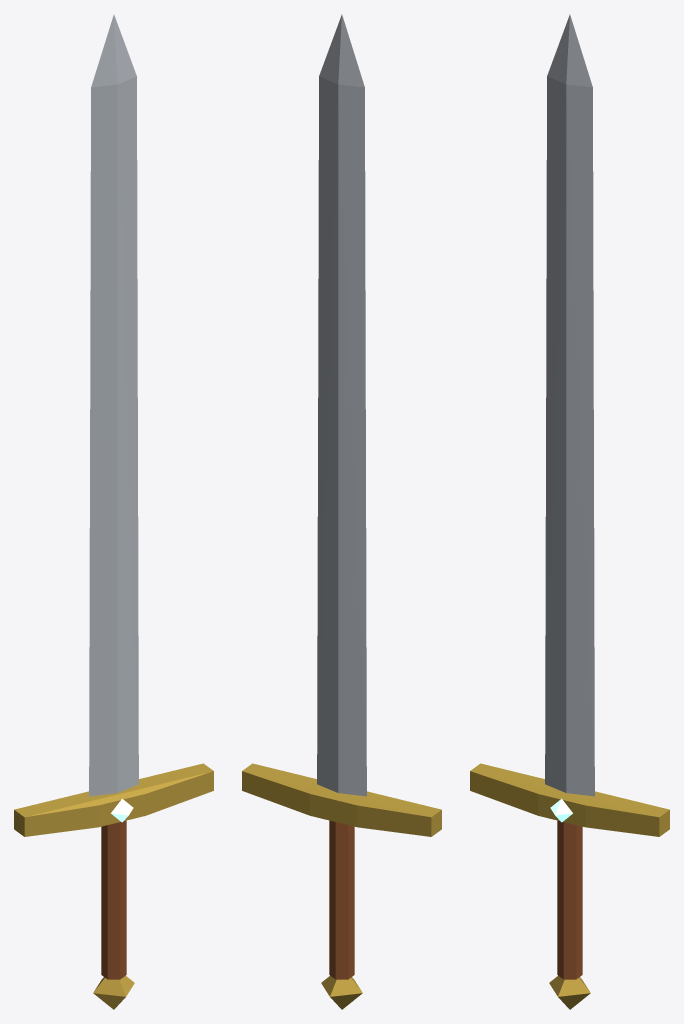
Rendered from hero_sword.gltf.
The picture shows the model from 3 angles, left to right: view 1: azimuth 30°, elevation 25°; view 2: azimuth 150°, elevation 25°; view 3: azimuth 330°, elevation 25°; orthographic projection.
Visible parts, largest first — view 1: hero_sword; view 2: hero_sword; view 3: hero_sword.
Boxes of the visible parts, x1=… form: hero_sword: x1=14, y1=14, x2=213, y2=1009; hero_sword: x1=242, y1=14, x2=441, y2=1009; hero_sword: x1=470, y1=14, x2=669, y2=1009.
Bounding box in the file's own units: 0.209 × 1.05 × 0.0515.
